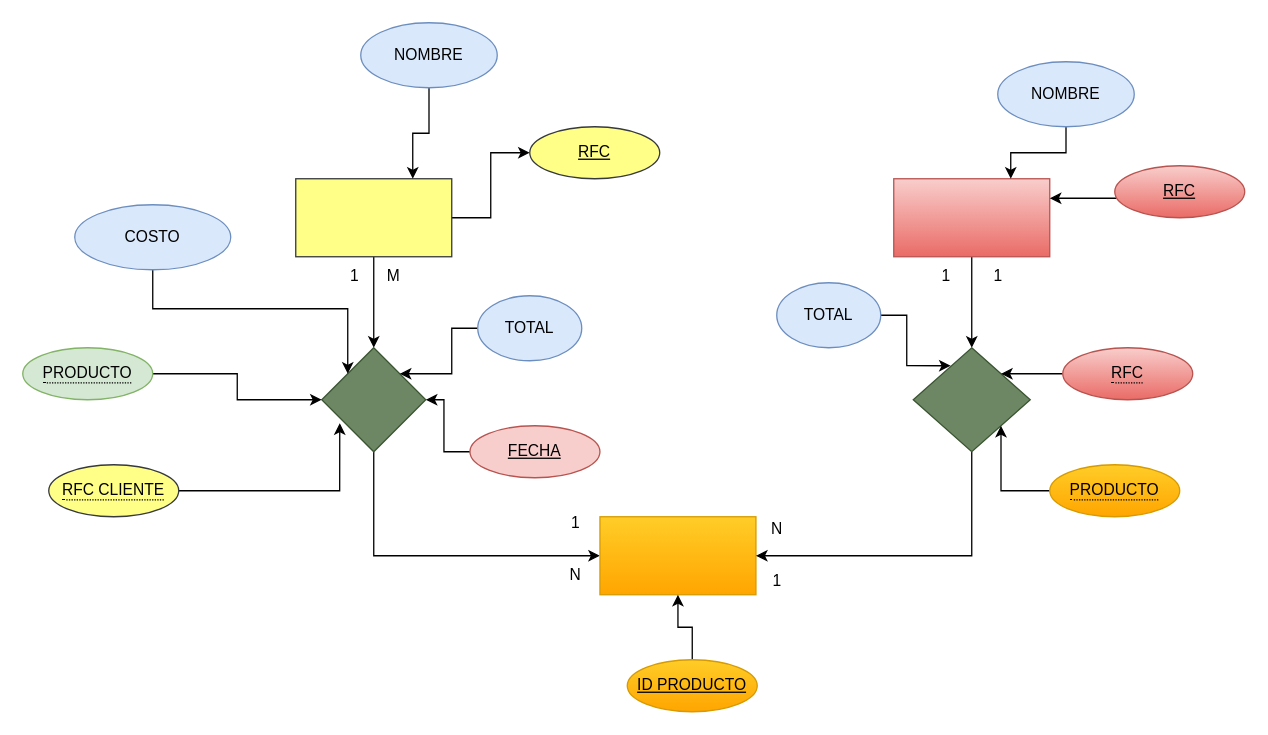
Some shapes in this 1268 by 735 pixel diagram are drawn without their labels. Here are the shapes that lost their labels. From the top down, the box of each, then its label:
(294, 177, 452, 257): CLIENTES
(892, 177, 1050, 257): PROVEEDORES
(320, 346, 426, 452): COMPRA
(912, 346, 1030, 452): SUMINISTRA
(599, 515, 756, 595): PRODUCTOS
